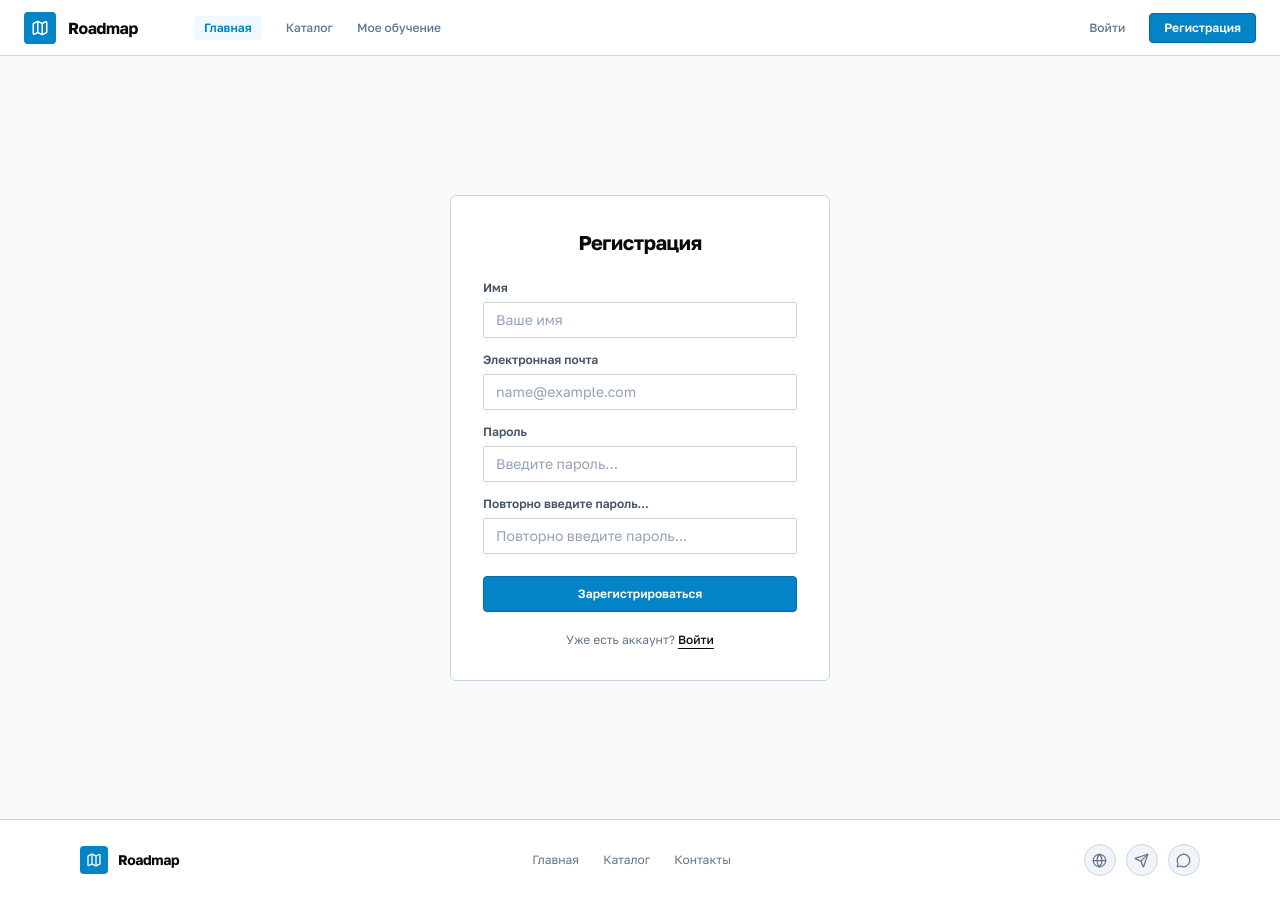
Test: RegisterPage › validates password mismatch
The image size is (1280, 900).
In the field labelled "Имя": {"x": 640, "y": 320} [483,302,797,338], type "Иван"
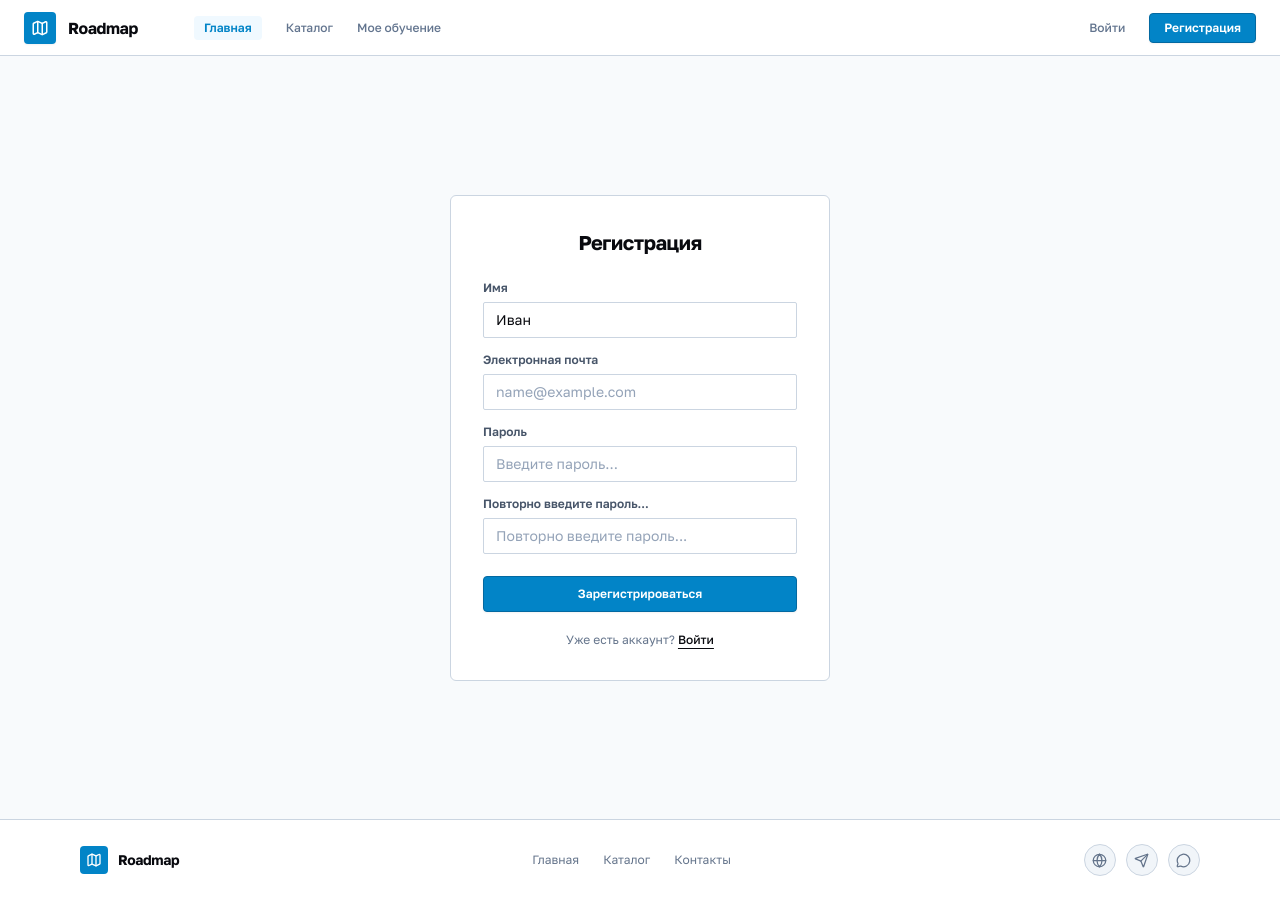
In the field labelled "Электронная почта": {"x": 640, "y": 392} [483,374,797,410], type "ivan@mail.ru"
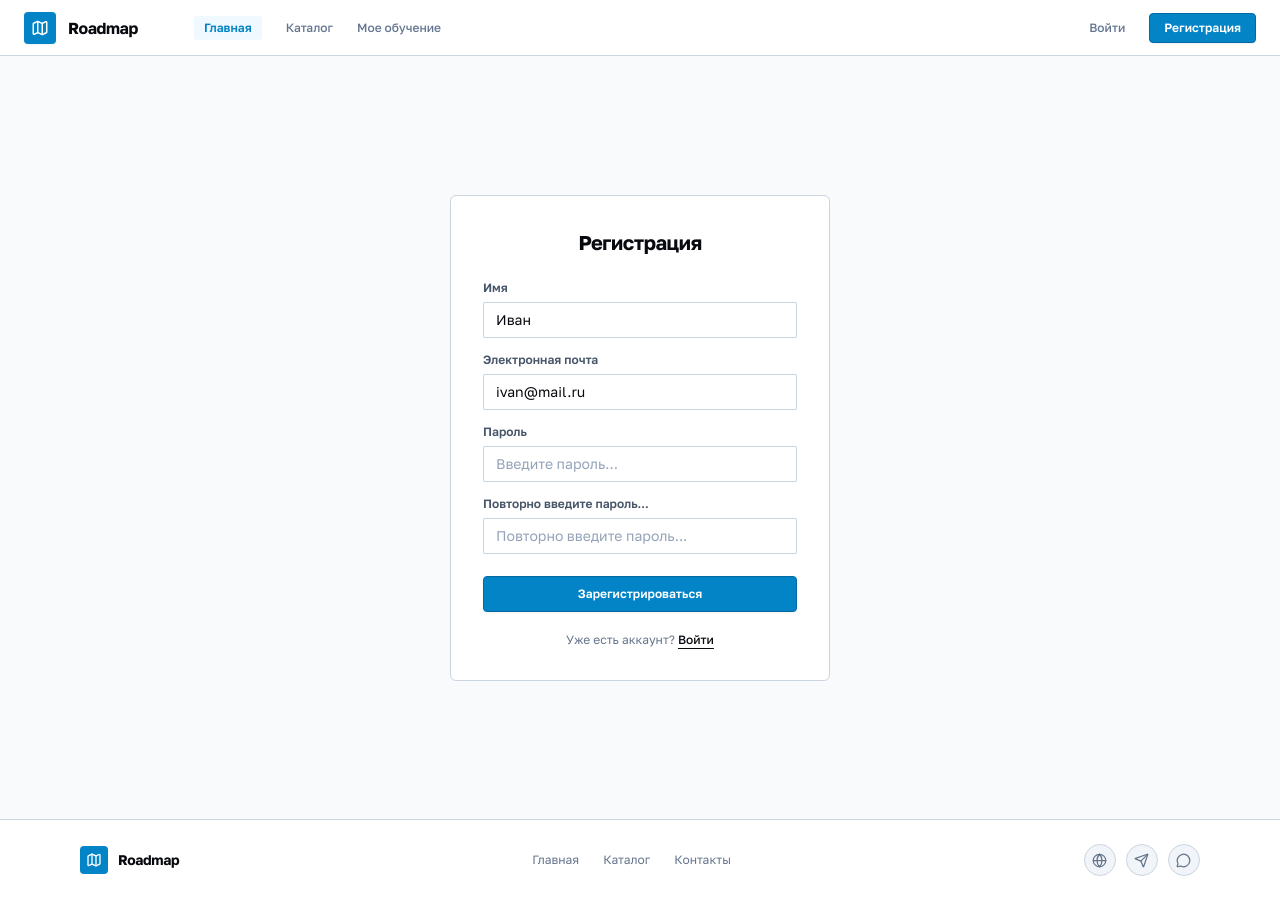
In the password field labelled "Пароль": {"x": 640, "y": 464} [483,446,797,482], type "pass123"
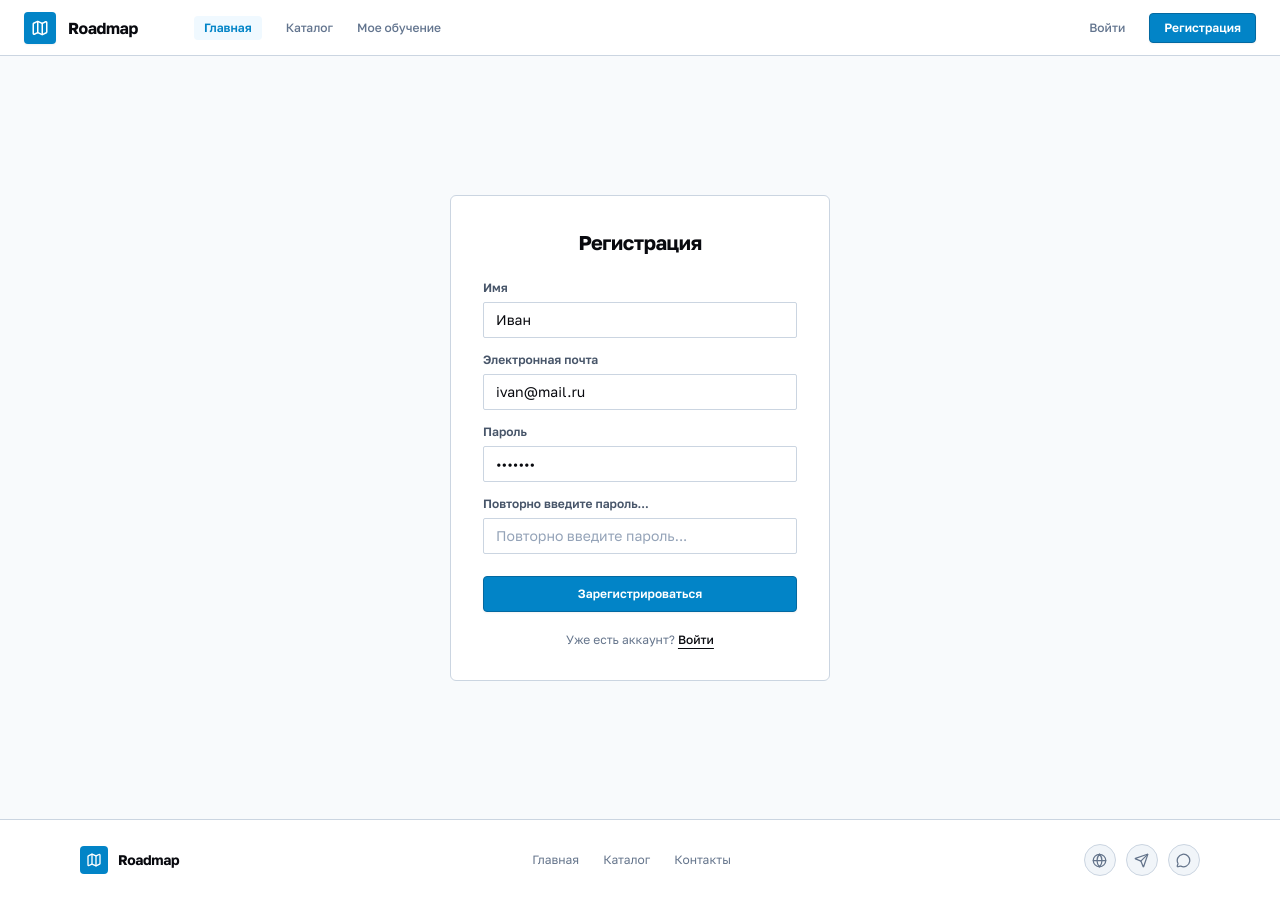
In the password field labelled "Повторно введите пароль...": {"x": 640, "y": 536} [483,518,797,554], type "pass456"
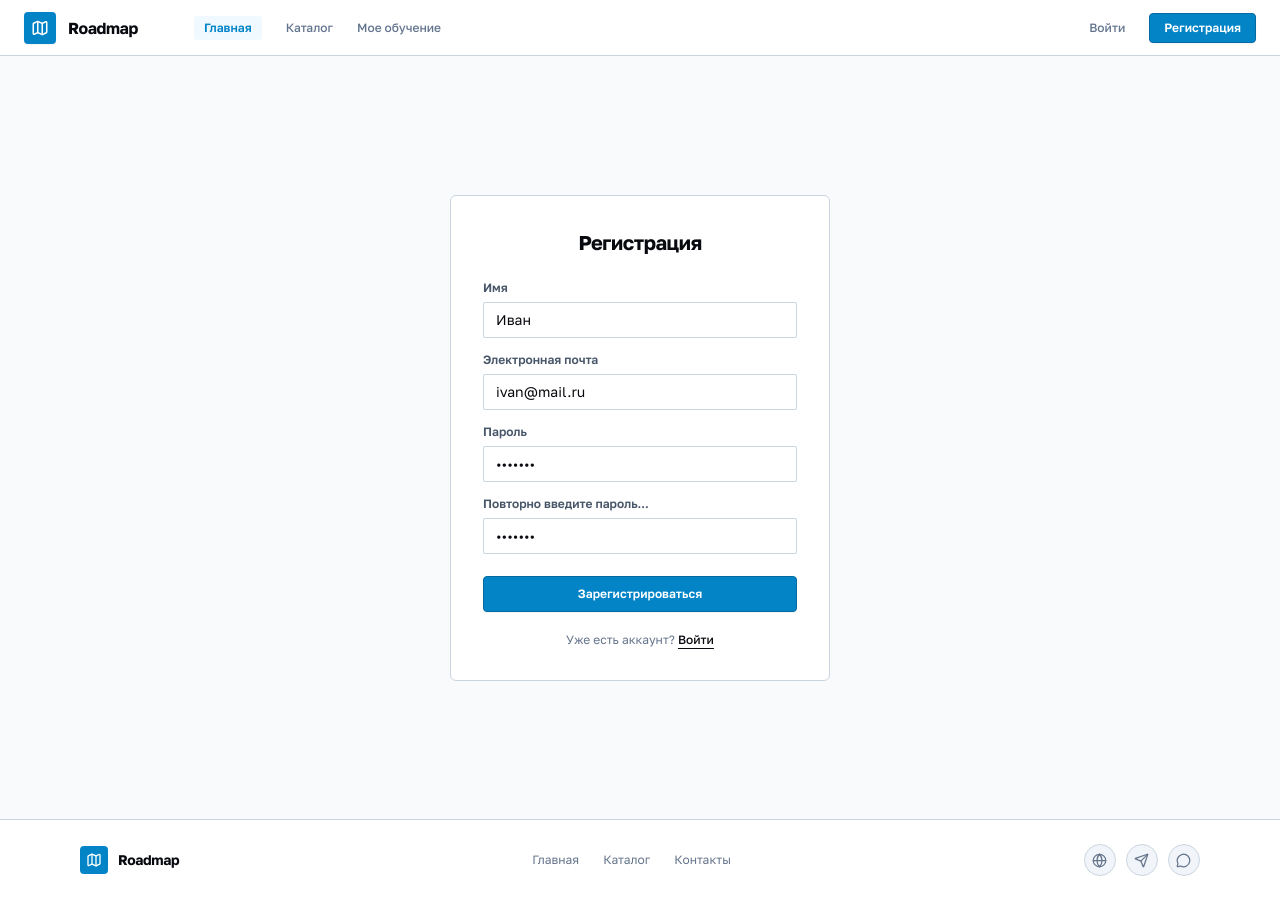
Click the button "Зарегистрироваться": {"x": 640, "y": 594} [483,576,797,612]
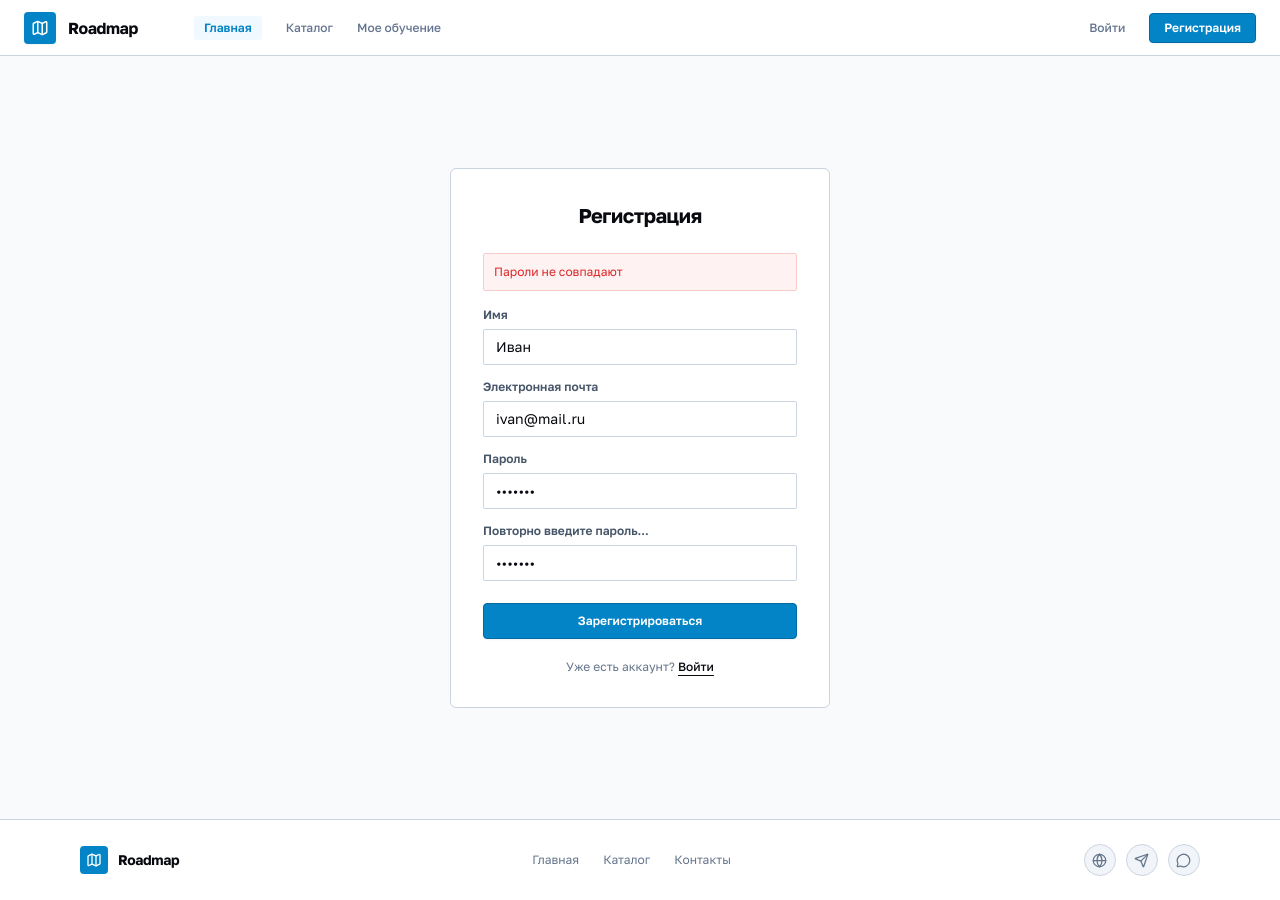
Check: the text "Пароли не совпадают" is shown, box [483,252,797,290]
